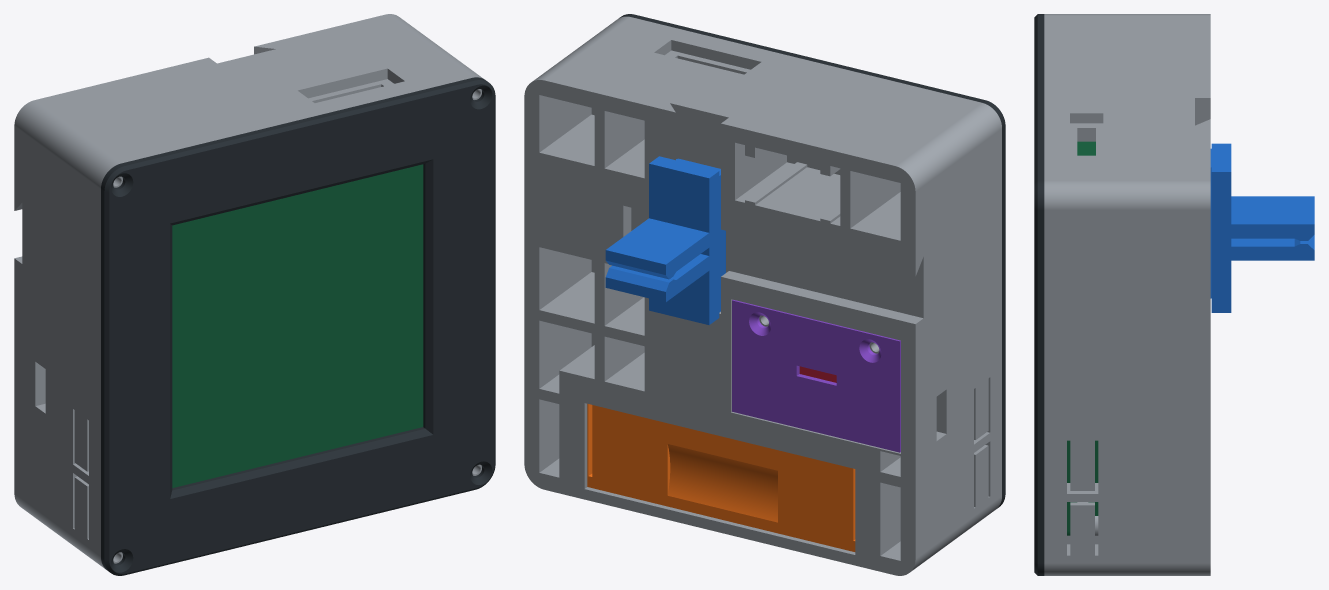
Rendered from assembly.glb.
3 renders of one model, left to right at view 1: azimuth 30°, elevation 25°; view 2: azimuth 150°, elevation 25°; view 3: azimuth 270°, elevation 25°, orthographic. The views are drawn at different scales.
Parts seen in each view (by area): view 1: front_bezel, body, board_dummy; view 2: body, battery_door, charger_lid, vent_clip, front_bezel; view 3: body, vent_clip, front_bezel, board_dummy.
Boxes of the visible parts, <box> form: front_bezel: <box>101,77,495,575</box>; body: <box>14,14,483,569</box>; board_dummy: <box>172,164,423,487</box>; body: <box>524,16,1001,575</box>; battery_door: <box>587,403,855,551</box>; charger_lid: <box>732,299,900,452</box>; vent_clip: <box>605,156,725,324</box>; front_bezel: <box>619,14,1005,508</box>; body: <box>1044,14,1210,575</box>; vent_clip: <box>1210,143,1314,312</box>; front_bezel: <box>1034,14,1044,575</box>; board_dummy: <box>1067,141,1098,535</box>.
Bounding box in the file's own units: 0.078 × 0.078 × 0.0504.
